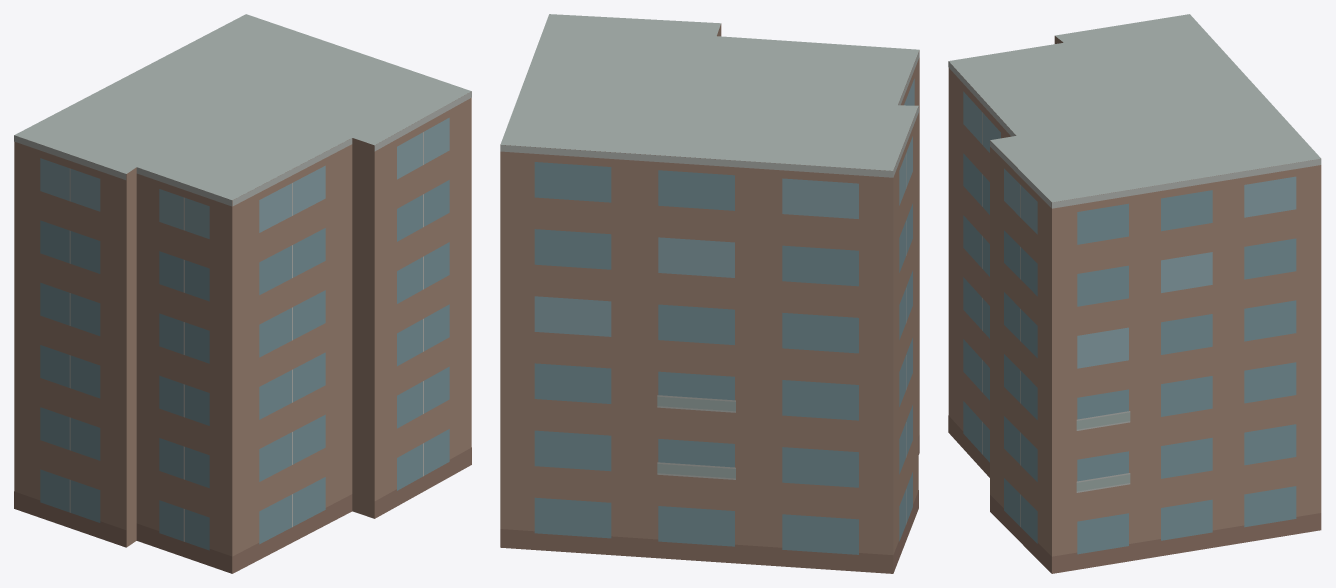
Rendered from survey-upis-32864426.glb.
3 renders of one model, left to right at view 1: azimuth 30°, elevation 25°; view 2: azimuth 150°, elevation 25°; view 3: azimuth 270°, elevation 25°, orthographic. The views are drawn at different scales.
Visible parts, largest first — view 1: survey-upis-32864426.tmp; view 2: survey-upis-32864426.tmp; view 3: survey-upis-32864426.tmp.
Part boxes in pixels (x1,y1,x2,y2): survey-upis-32864426.tmp: (14,14,471,573); survey-upis-32864426.tmp: (500,14,919,573); survey-upis-32864426.tmp: (948,14,1321,573).
Size of the model in its own units: 15.73 by 14.45 by 13.16.
